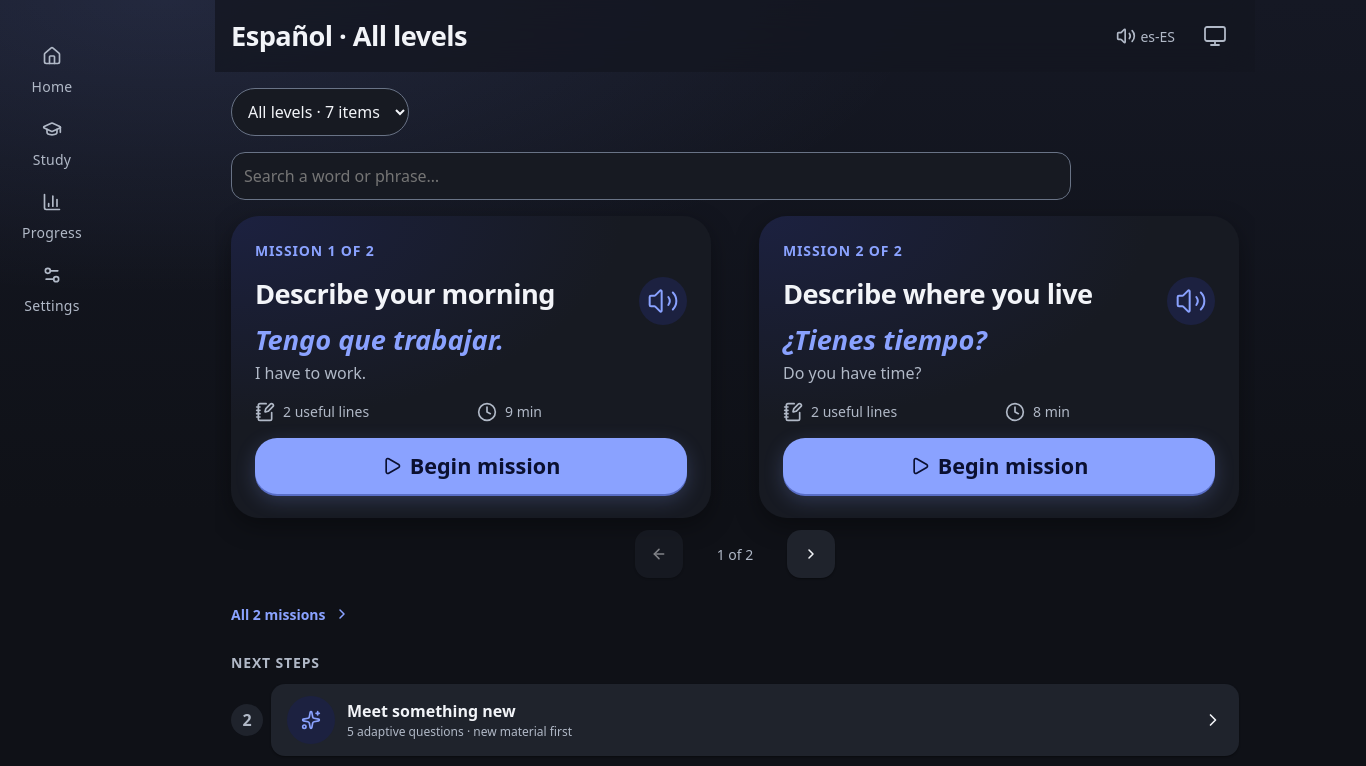
Scenario: what a lookup answers › resolves a conjugated form, and says which form was typed
Type "tengo" into the search field at (651, 176), box [231, 152, 1071, 200]
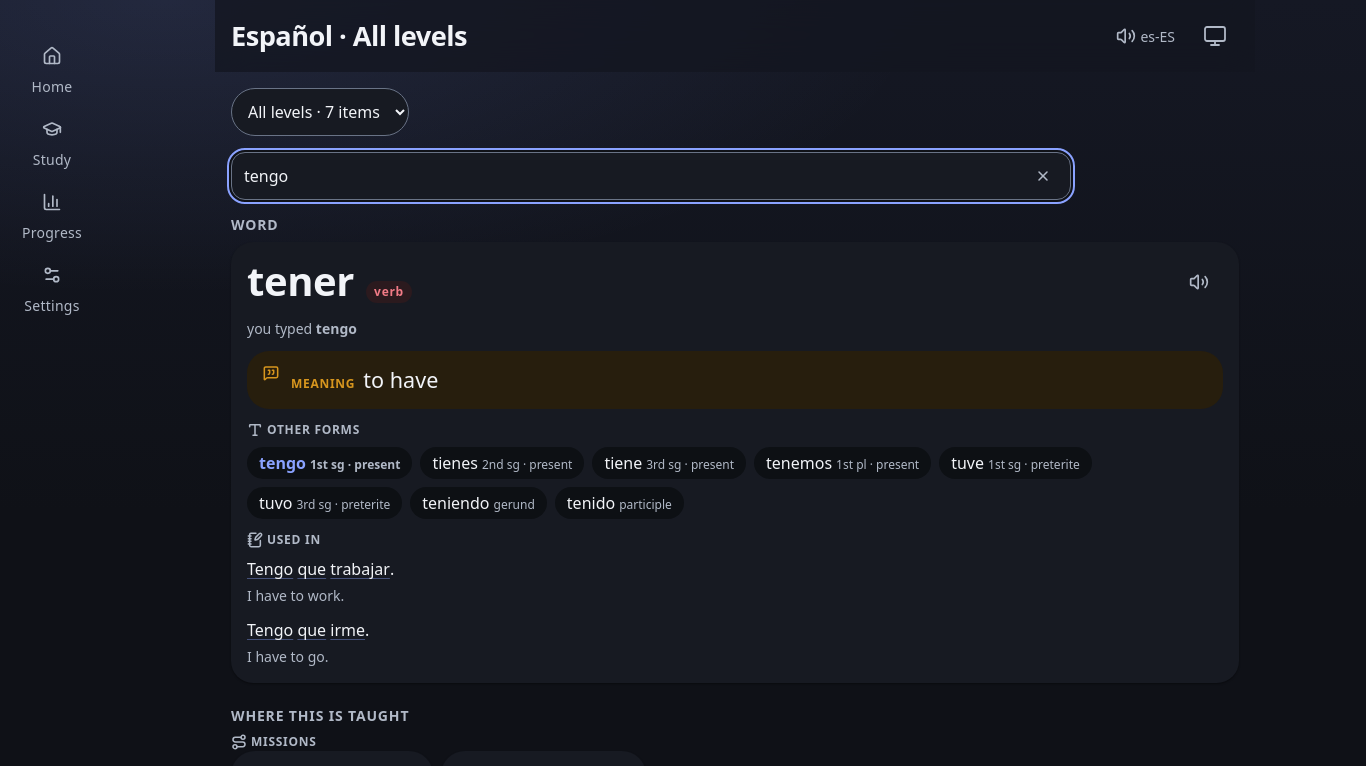
Expected: the heading "tener" is shown, [247, 258, 354, 304]
Expected: the text "you typed tengo" is shown, [247, 318, 357, 338]
